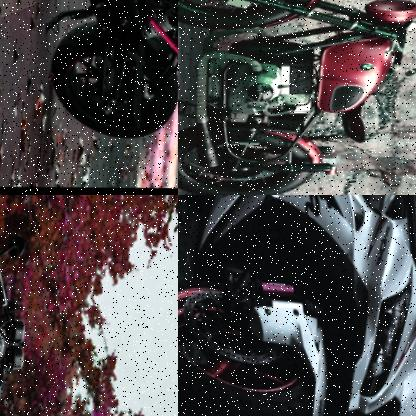bike: (178, 195, 416, 416), (178, 0, 416, 195), (26, 0, 178, 156)
